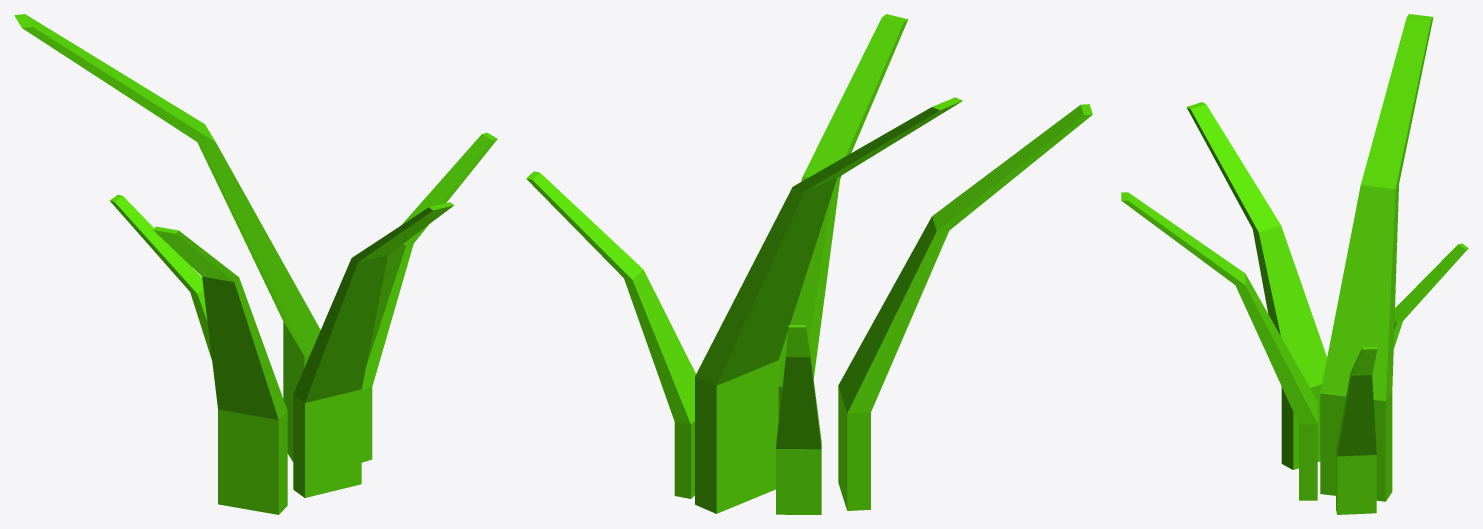
Rendered from grass.glb.
The picture shows the model from 3 angles, left to right: view 1: azimuth 30°, elevation 25°; view 2: azimuth 150°, elevation 25°; view 3: azimuth 270°, elevation 25°; orthographic projection. The views are drawn at different scales.
Visible parts, largest first — view 1: Grass; view 2: Grass; view 3: Grass.
Boxes of the visible parts, x1,y1,x2,y2 form: Grass: (14, 14, 497, 514); Grass: (526, 14, 1092, 514); Grass: (1121, 14, 1468, 514).
Size of the model in its own units: 1.66 by 1.67 by 1.38.
